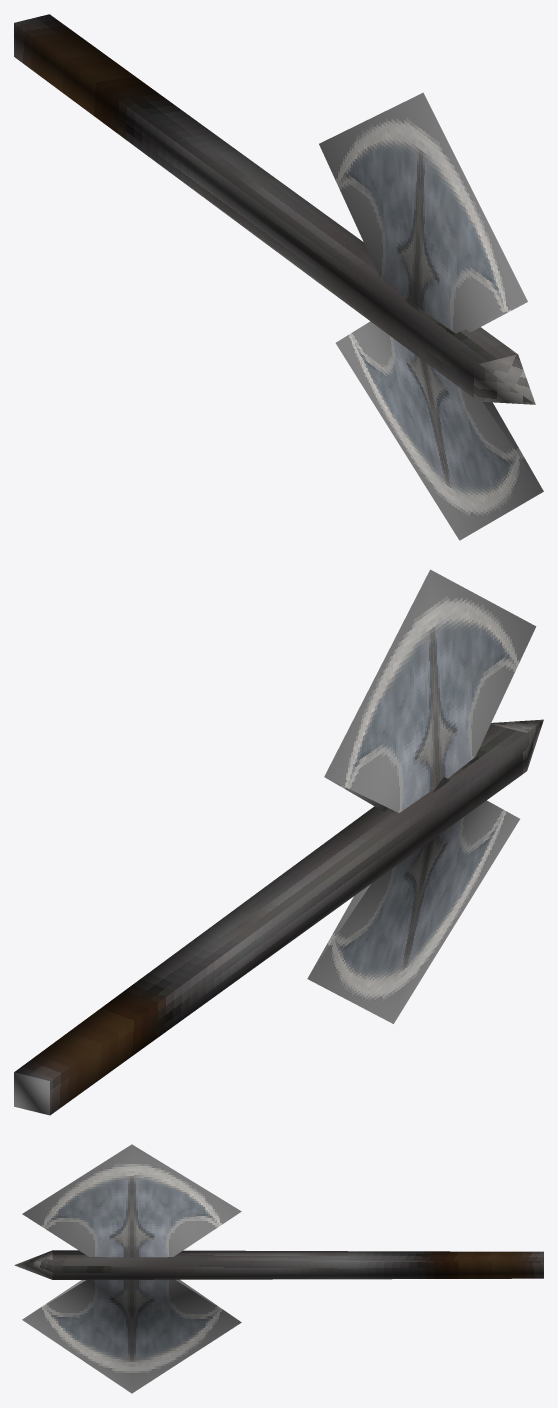
The model's file is H2Axe.fbx.
The picture shows the model from 3 angles, top to bottom: view 1: azimuth 30°, elevation 25°; view 2: azimuth 150°, elevation 25°; view 3: azimuth 270°, elevation 25°; orthographic projection. The views are drawn at different scales.
Visible parts, largest first — view 1: U3DMesh; view 2: U3DMesh; view 3: U3DMesh.
Part boxes in pixels (left/top/right/bottom): U3DMesh: left=14, top=14, right=543, bottom=540; U3DMesh: left=14, top=569, right=543, bottom=1115; U3DMesh: left=14, top=1144, right=543, bottom=1393.
Bounding box in the file's own units: 0.2036 × 1.58 × 3.16.
